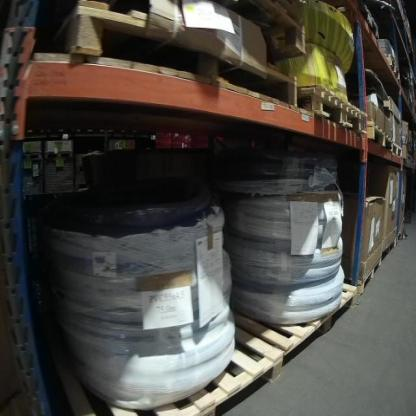pallet: (49, 4, 306, 108), (59, 323, 285, 415), (234, 279, 358, 351), (297, 84, 368, 136), (352, 253, 381, 297), (367, 120, 393, 154), (381, 52, 402, 81), (379, 238, 397, 263), (393, 141, 402, 160)
